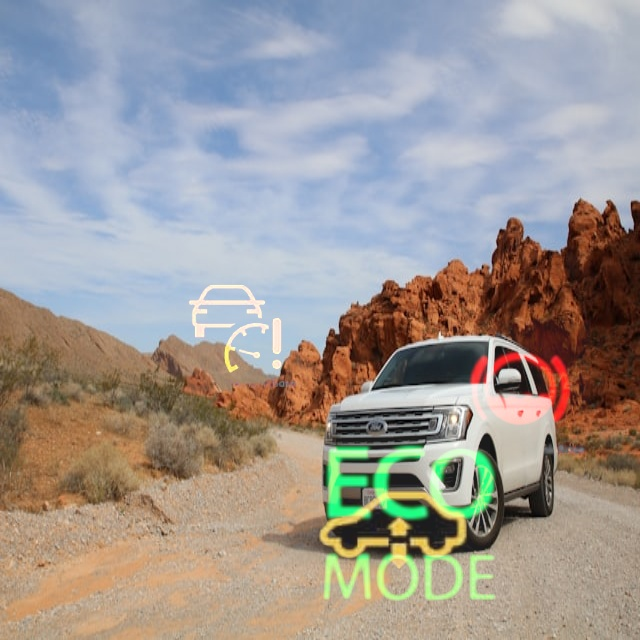symbol: (308, 426, 510, 628), (295, 436, 490, 631), (449, 320, 590, 461), (172, 266, 298, 392)
